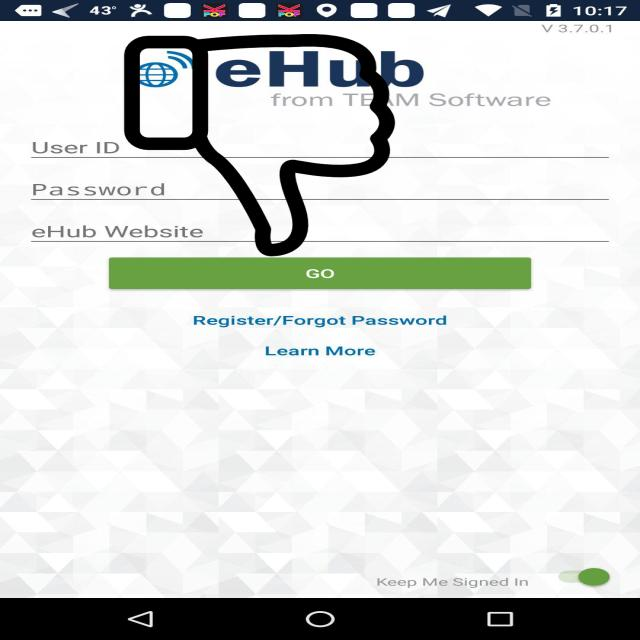obstruction: (120, 34, 399, 256)
